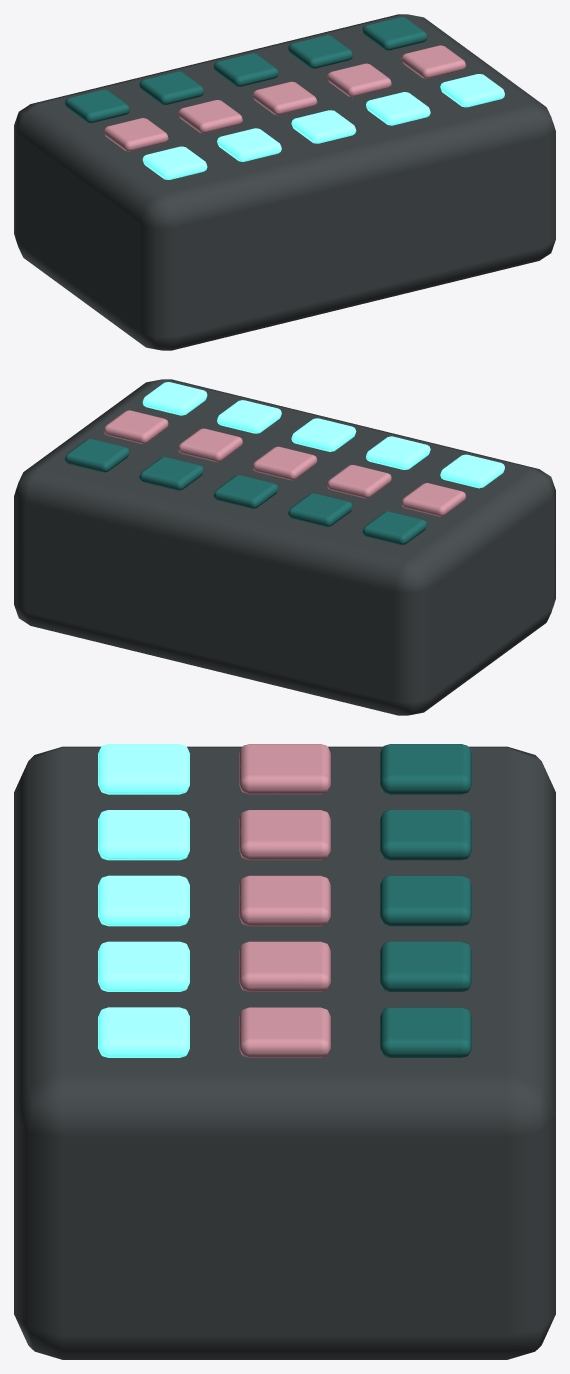
The model's file is acc_stream_deck-13783637ba34.glb.
3 renders of one model, top to bottom at view 1: azimuth 30°, elevation 25°; view 2: azimuth 150°, elevation 25°; view 3: azimuth 270°, elevation 25°, orthographic. The views are drawn at different scales.
Visible parts, largest first — view 1: surface_graphite, surface_rose, surface_cyan, surface_teal; view 2: surface_graphite, surface_rose, surface_teal, surface_cyan; view 3: surface_graphite, surface_teal, surface_cyan, surface_rose.
Part boxes in pixels (box(x1,y1,x2,y2)): surface_graphite: box(14, 14, 555, 350); surface_rose: box(103, 45, 466, 151); surface_cyan: box(142, 74, 504, 179); surface_teal: box(65, 17, 427, 123); surface_graphite: box(14, 379, 555, 715); surface_rose: box(103, 410, 466, 516); surface_teal: box(65, 439, 427, 544); surface_cyan: box(142, 382, 504, 488); surface_graphite: box(14, 746, 555, 1359); surface_teal: box(380, 744, 471, 1057); surface_cyan: box(98, 744, 189, 1057); surface_rose: box(239, 744, 330, 1057).
Bounding box in the file's own units: 0.16 × 0.062 × 0.1.
